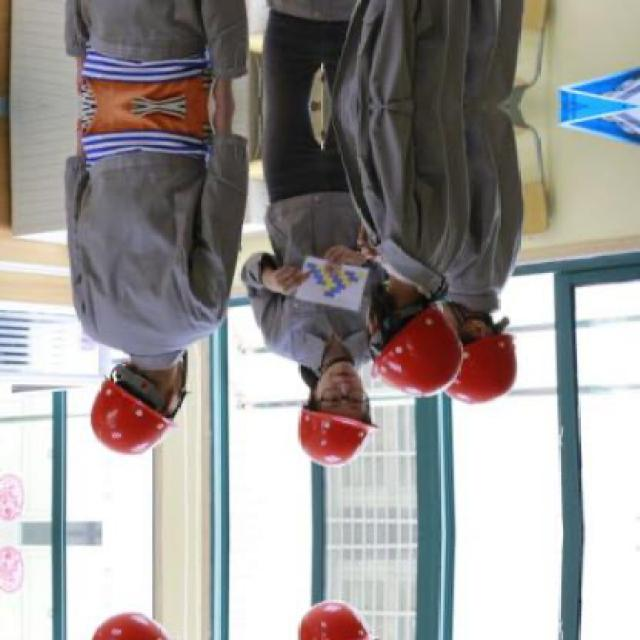con casco: (51, 318, 235, 468), (406, 290, 549, 429), (254, 361, 392, 502), (322, 263, 449, 398)
